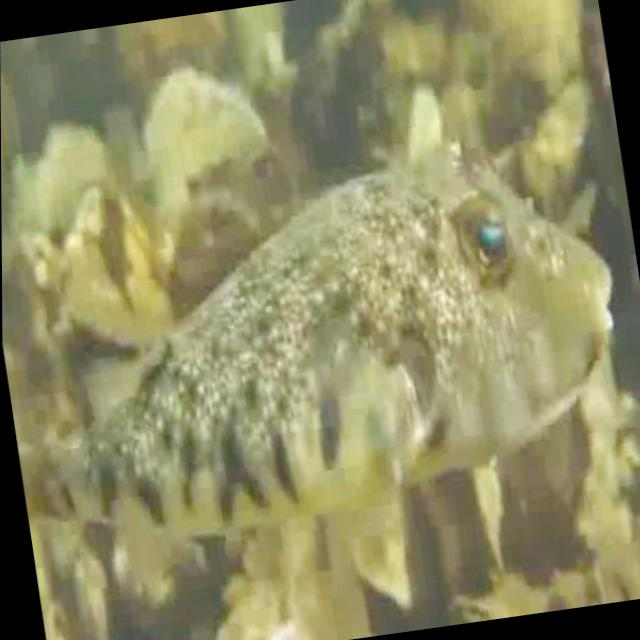Oyster-Closed: (456, 579, 543, 624)
Oyster-Indeterminate: (144, 73, 271, 249), (295, 0, 390, 162), (41, 130, 120, 241), (177, 198, 258, 288), (501, 0, 581, 82)
Oyster-Open: (68, 193, 174, 347)
